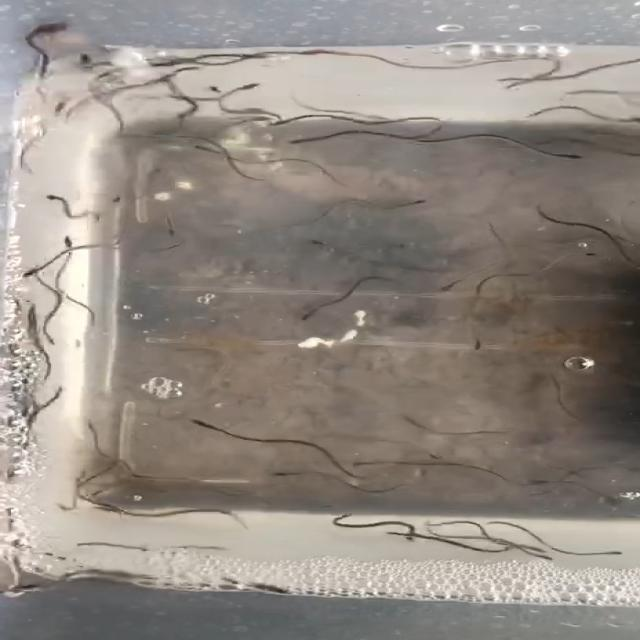inactive_glass_eel: (0, 580, 58, 594), (29, 22, 71, 40), (244, 578, 288, 595), (10, 301, 40, 325), (217, 81, 259, 98), (290, 46, 332, 61), (70, 50, 95, 75), (399, 410, 428, 431), (508, 538, 545, 554), (296, 304, 325, 324), (153, 57, 194, 71), (80, 418, 104, 441), (180, 418, 221, 431), (458, 333, 484, 353), (290, 132, 327, 146), (269, 468, 311, 480), (47, 96, 69, 118), (550, 149, 587, 162), (42, 193, 76, 207), (568, 248, 612, 258), (437, 278, 464, 294), (296, 237, 327, 250), (57, 234, 77, 254), (187, 146, 220, 158), (595, 547, 625, 560), (237, 49, 272, 60), (110, 131, 145, 142), (526, 551, 558, 563), (344, 462, 386, 471), (401, 194, 427, 208), (106, 190, 128, 205), (133, 469, 163, 480), (160, 218, 176, 238), (616, 113, 640, 125), (205, 85, 227, 98), (403, 528, 417, 545), (23, 266, 42, 278)
